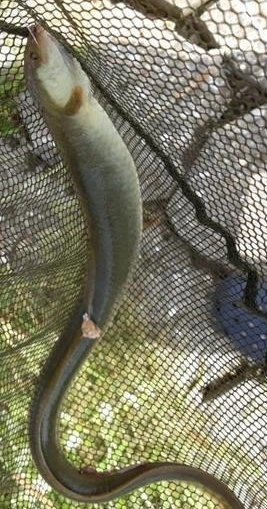Anguilla anguilla: (20, 20, 247, 509)
